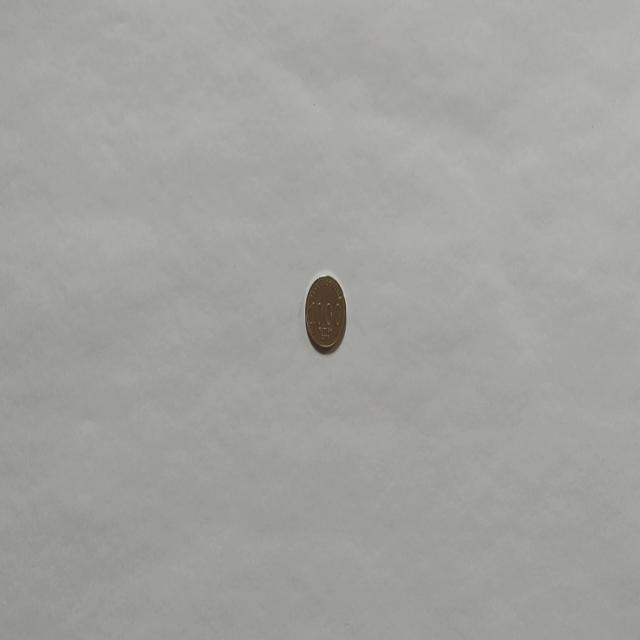seribu rupiah koin: (303, 271, 347, 355)
